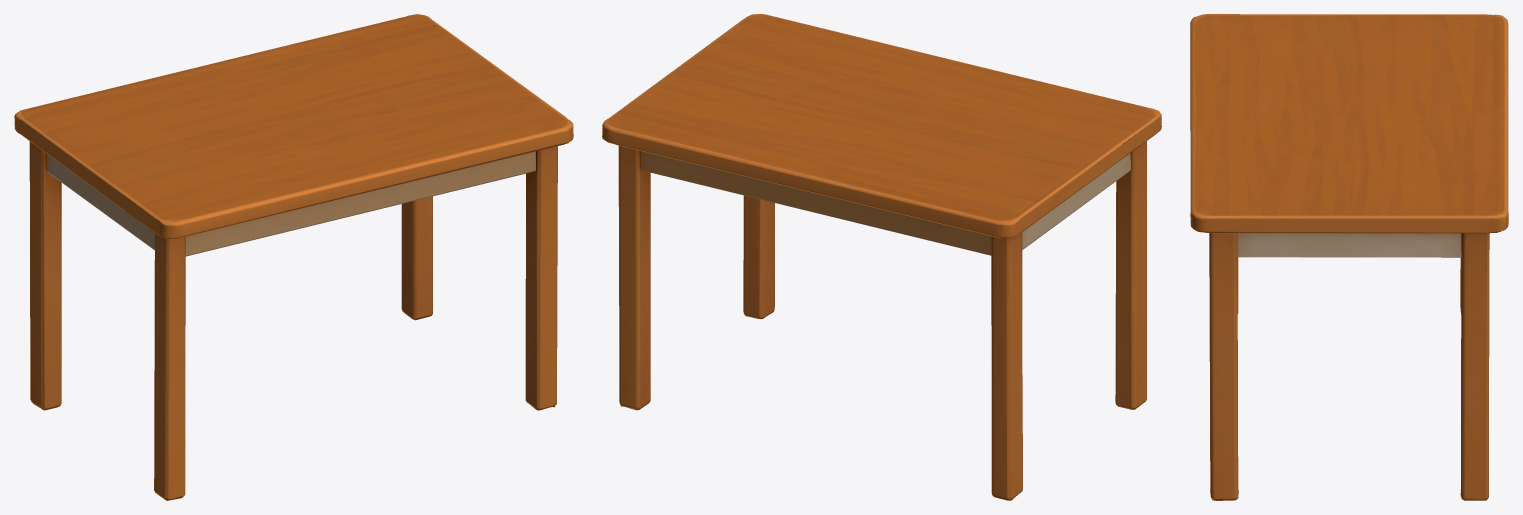
File: apartment-table.glb
3 views of the same model, side by side, from view 1: azimuth 30°, elevation 25°; view 2: azimuth 150°, elevation 25°; view 3: azimuth 270°, elevation 25° (orthographic).
Parts seen in each view (by area): view 1: geometry_0; view 2: geometry_0; view 3: geometry_0.
Part boxes in pixels (x1,y1,x2,y2): geometry_0: (14,14,573,500); geometry_0: (602,14,1161,500); geometry_0: (1190,14,1508,500).
Size of the model in its own units: 1 by 0.6676 by 0.6622.
Materials: 1 (1 with a texture image).
